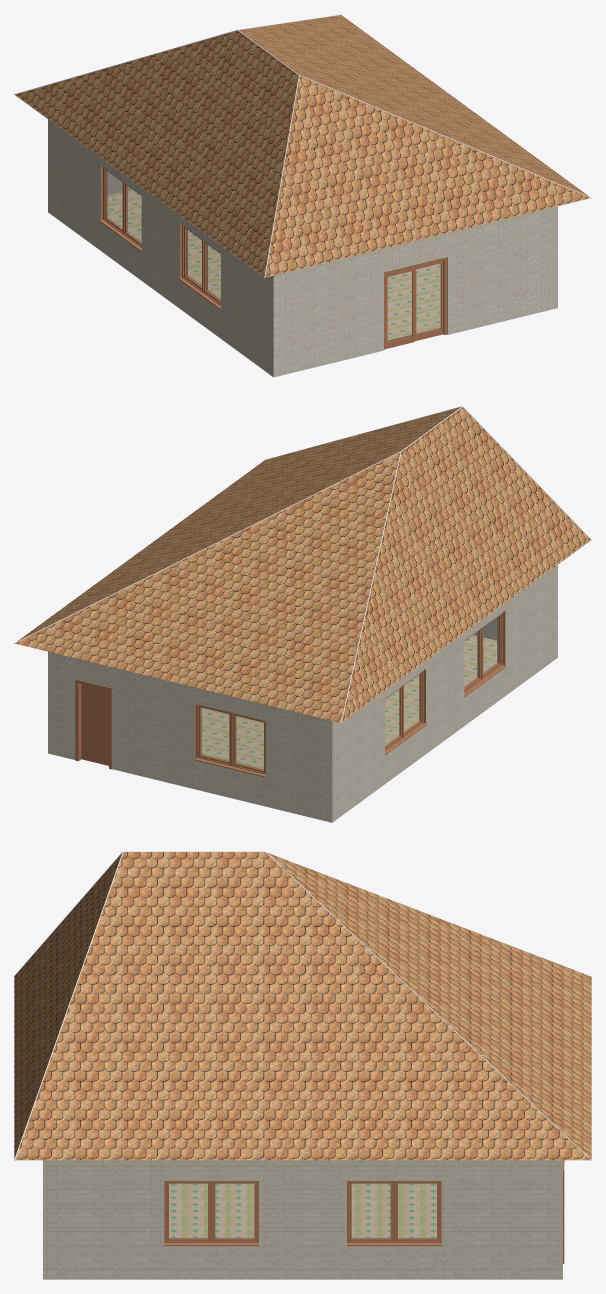
File: telhado43N.glb
3 views of the same model, one above another, from view 1: azimuth 30°, elevation 25°; view 2: azimuth 150°, elevation 25°; view 3: azimuth 270°, elevation 25° (orthographic). The views are drawn at different scales.
Parts seen in each view (by area): view 1: object 2, object 15, object 14, root, object 16; view 2: object 2, object 15, object 16, object 14, root, Pipe; view 3: object 2, object 15, root, object 14, object 16, Pipe.
Part boxes in pixels (bbox=[...]): object 2: bbox=[15, 15, 590, 277]; object 15: bbox=[48, 119, 557, 377]; object 14: bbox=[107, 171, 440, 342]; root: bbox=[107, 189, 440, 340]; object 16: bbox=[99, 165, 447, 349]; object 2: bbox=[15, 407, 590, 722]; object 15: bbox=[48, 565, 557, 822]; object 16: bbox=[75, 611, 506, 777]; object 14: bbox=[201, 616, 498, 770]; root: bbox=[201, 635, 497, 769]; Pipe: bbox=[14, 451, 400, 643]; object 2: bbox=[14, 852, 591, 1160]; object 15: bbox=[43, 1160, 562, 1279]; root: bbox=[169, 1183, 436, 1237]; object 14: bbox=[169, 1184, 436, 1238]; object 16: bbox=[164, 1160, 564, 1263]; Pipe: bbox=[265, 851, 591, 1160].
Size of the model in its own units: 9.22 by 7.06 by 12.22.
Materials: 10 (4 with a texture image).
